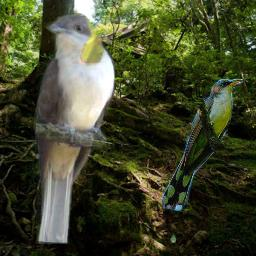Cuckoo: (31, 13, 115, 244), (162, 79, 243, 211)
